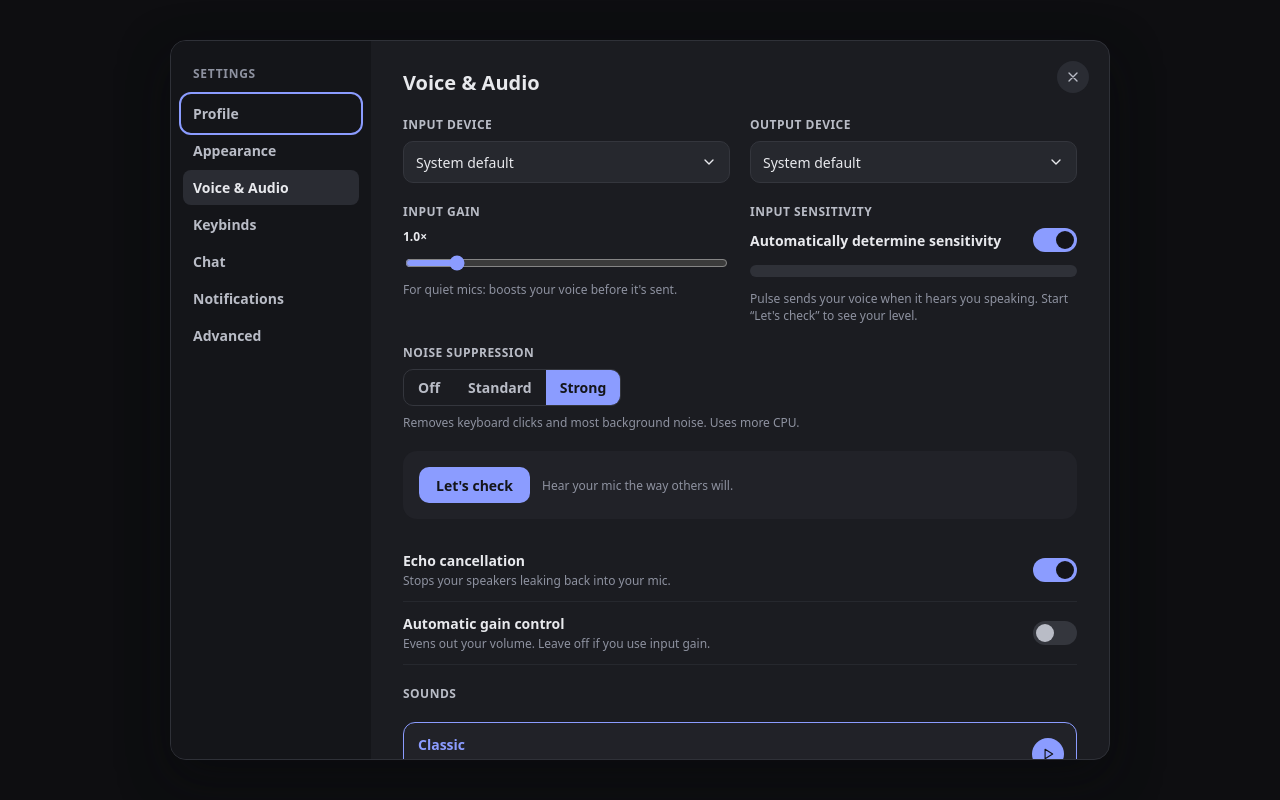
Test: Settings sections › Profile and Appearance sections are listed first
expect the button "Voice & Audio" is shown: met, box [183,170,359,205]
Click the button "Appearance": (271, 150) [183,133,359,168]
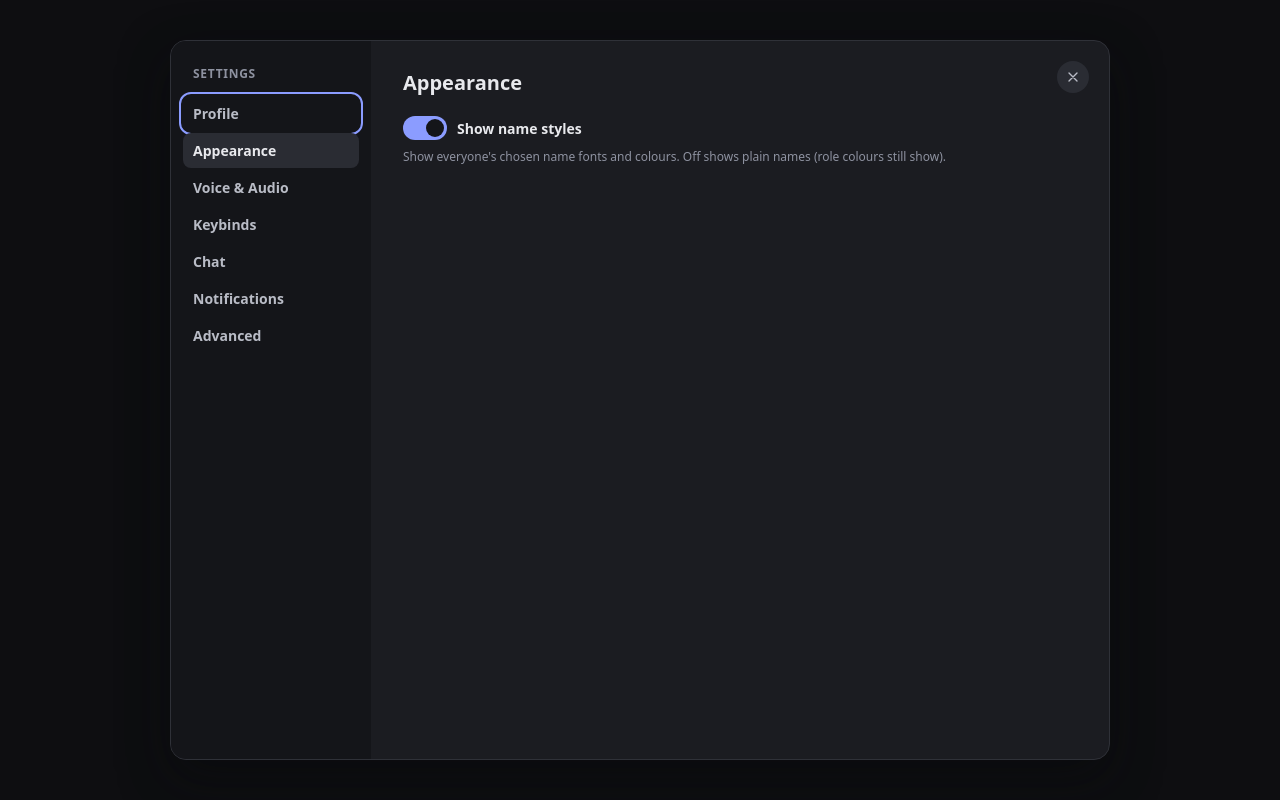
expect the switch labelled "Show name styles" is shown: met, box [403,116,447,140]
